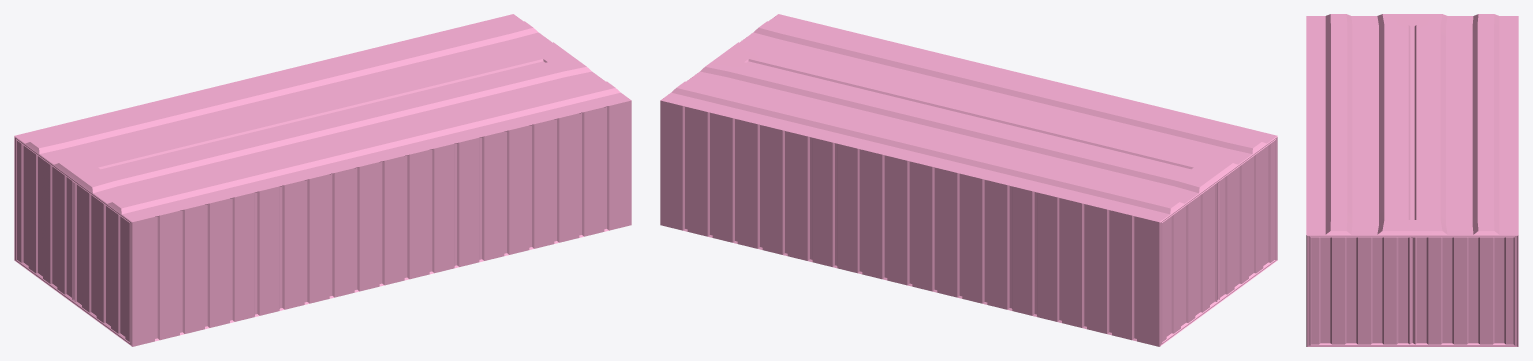
File: ShippingContainer.fbx
3 renders of one model, left to right at view 1: azimuth 30°, elevation 25°; view 2: azimuth 150°, elevation 25°; view 3: azimuth 270°, elevation 25°, orthographic. The views are drawn at different scales.
Parts seen in each view (by area): view 1: Container; view 2: Container; view 3: Container.
Part boxes in pixels (left/top/right/bottom): Container: left=14, top=14, right=631, bottom=346; Container: left=660, top=14, right=1277, bottom=346; Container: left=1306, top=14, right=1518, bottom=346.
Bounding box in the file's own units: 989 × 242 × 404.
Materials: 1 (1 with a texture image).
